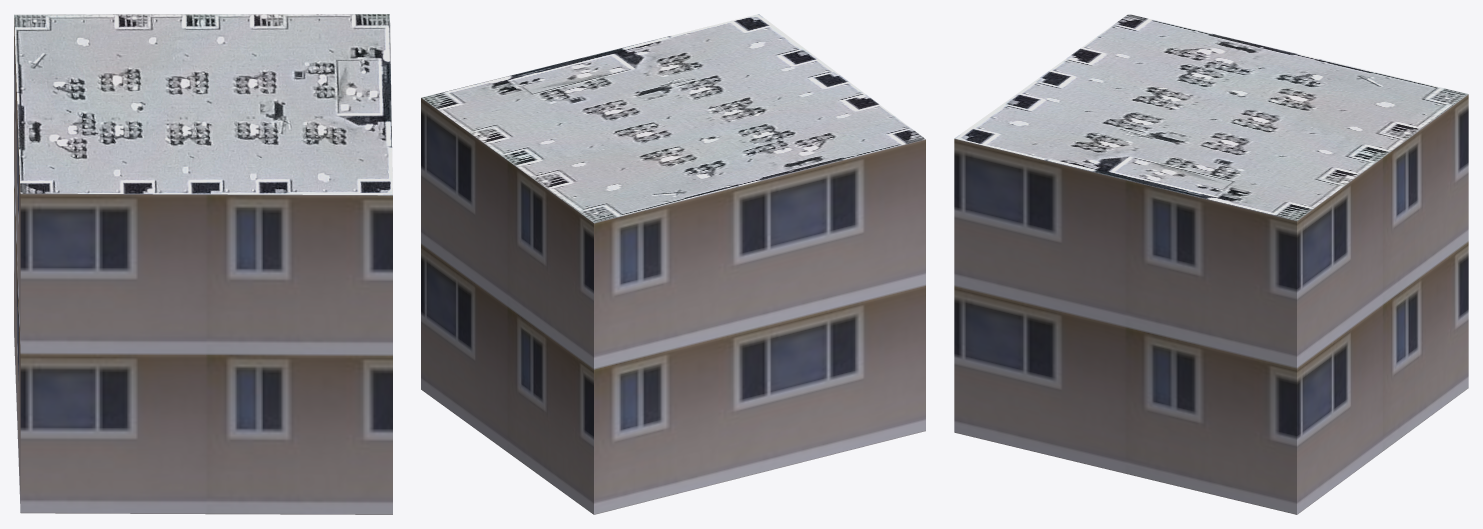
Rendered from ResTex__799.fbx.
The picture shows the model from 3 angles, left to right: view 1: azimuth 30°, elevation 25°; view 2: azimuth 150°, elevation 25°; view 3: azimuth 270°, elevation 25°; orthographic projection. The views are drawn at different scales.
Parts seen in each view (by area): view 1: CityEngineMaterial_21_m, CityEngineMaterial_8_m; view 2: CityEngineMaterial_21_m, CityEngineMaterial_8_m; view 3: CityEngineMaterial_21_m, CityEngineMaterial_8_m.
Boxes of the visible parts, bbox=[...] form: CityEngineMaterial_21_m: bbox=[14, 18, 392, 514]; CityEngineMaterial_8_m: bbox=[14, 14, 392, 195]; CityEngineMaterial_21_m: bbox=[421, 98, 925, 514]; CityEngineMaterial_8_m: bbox=[421, 14, 925, 222]; CityEngineMaterial_21_m: bbox=[954, 94, 1468, 514]; CityEngineMaterial_8_m: bbox=[954, 14, 1468, 220].
Size of the model in its own units: 9.05 by 6 by 9.51.
2 materials, 2 textured.
